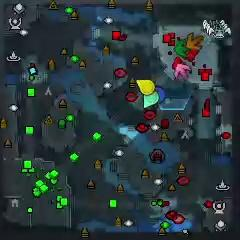p1: (152, 86, 167, 104)
p2: (143, 91, 160, 108)
p4: (136, 79, 155, 95)
x1: (173, 63, 191, 80)
x4: (174, 40, 189, 58)
x5: (186, 32, 203, 51)
